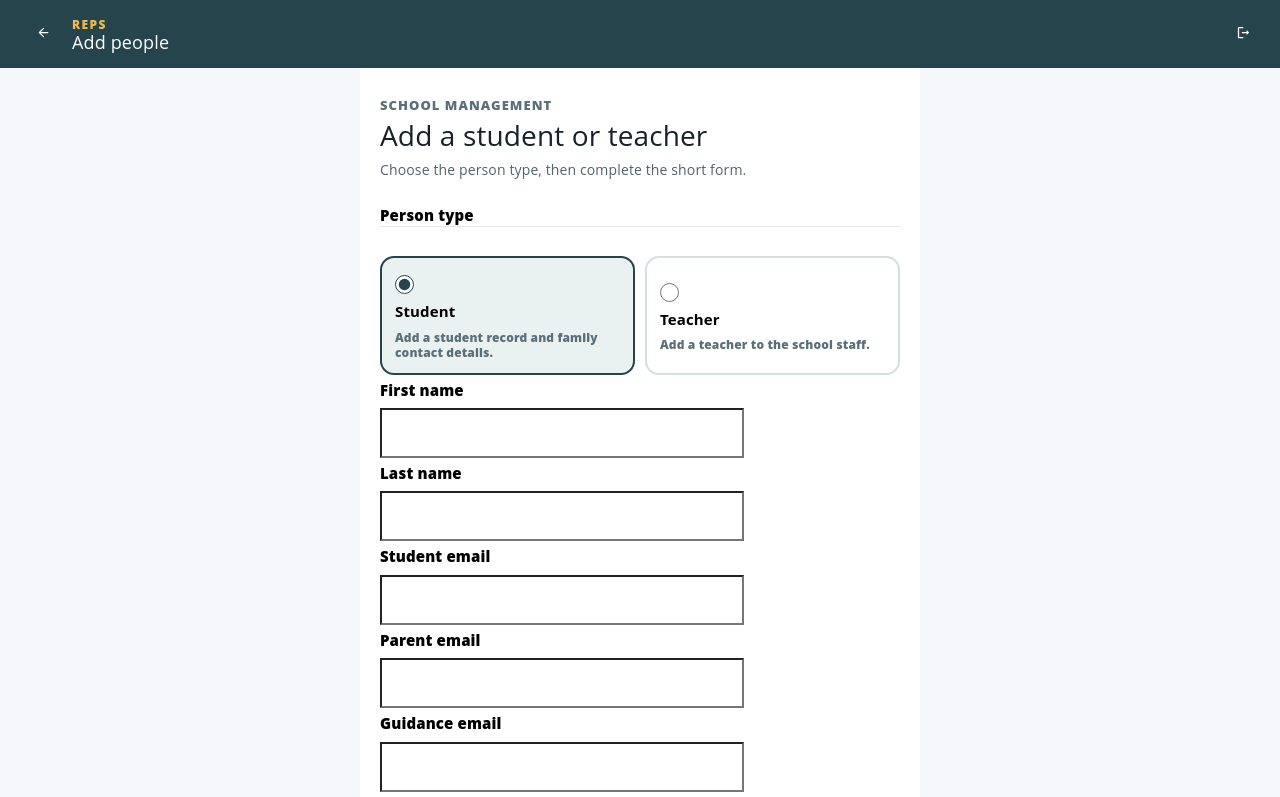
Test: mobile creation confirms employee body and explains access without sending invitation
Expected: the heading "Add a student or teacher" is shown, left=380, top=116, right=707, bottom=154
Click the radio button labelled "Teacher Add a teacher to the school staff." at (670, 292), box left=660, top=283, right=679, bottom=302
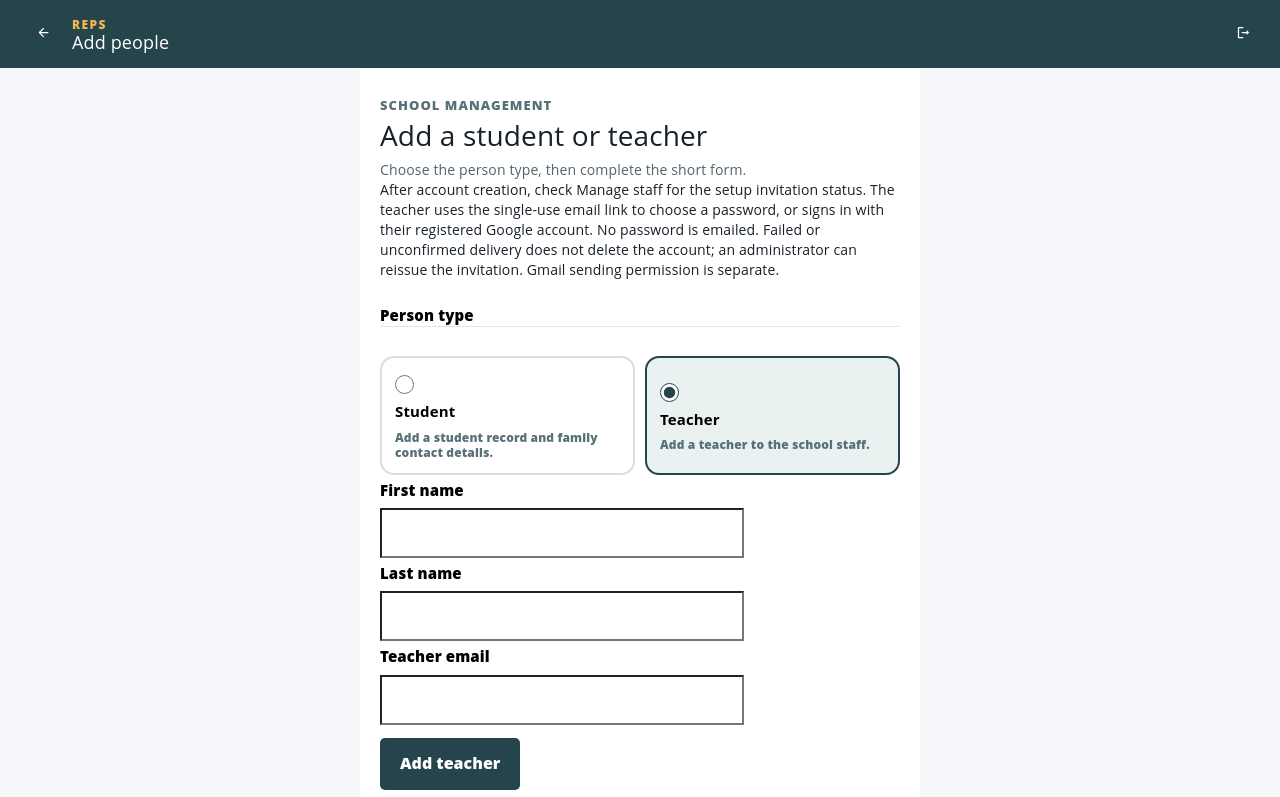
Type "Synthetic" into the field labelled "First name" at (562, 533), box left=380, top=508, right=744, bottom=558
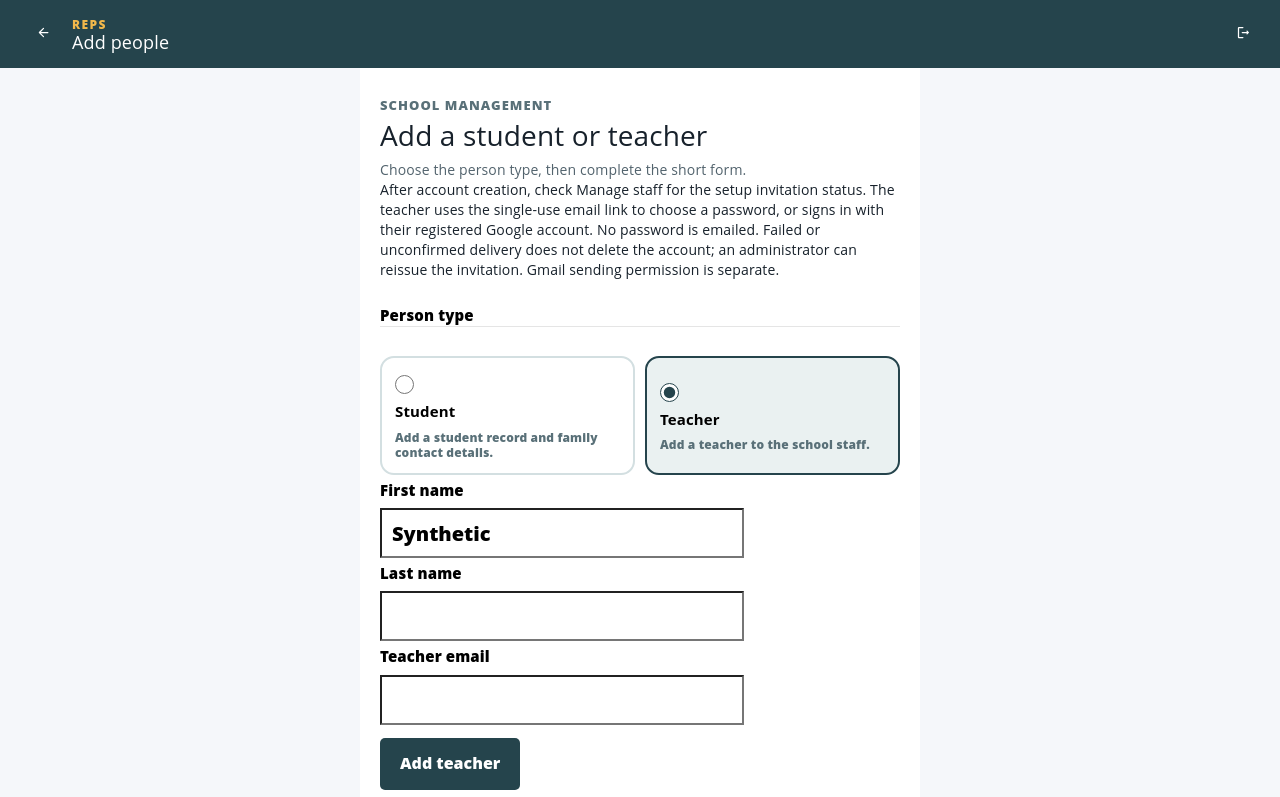
Type "Teacher" into the field labelled "Last name" at (562, 616), box left=380, top=591, right=744, bottom=641
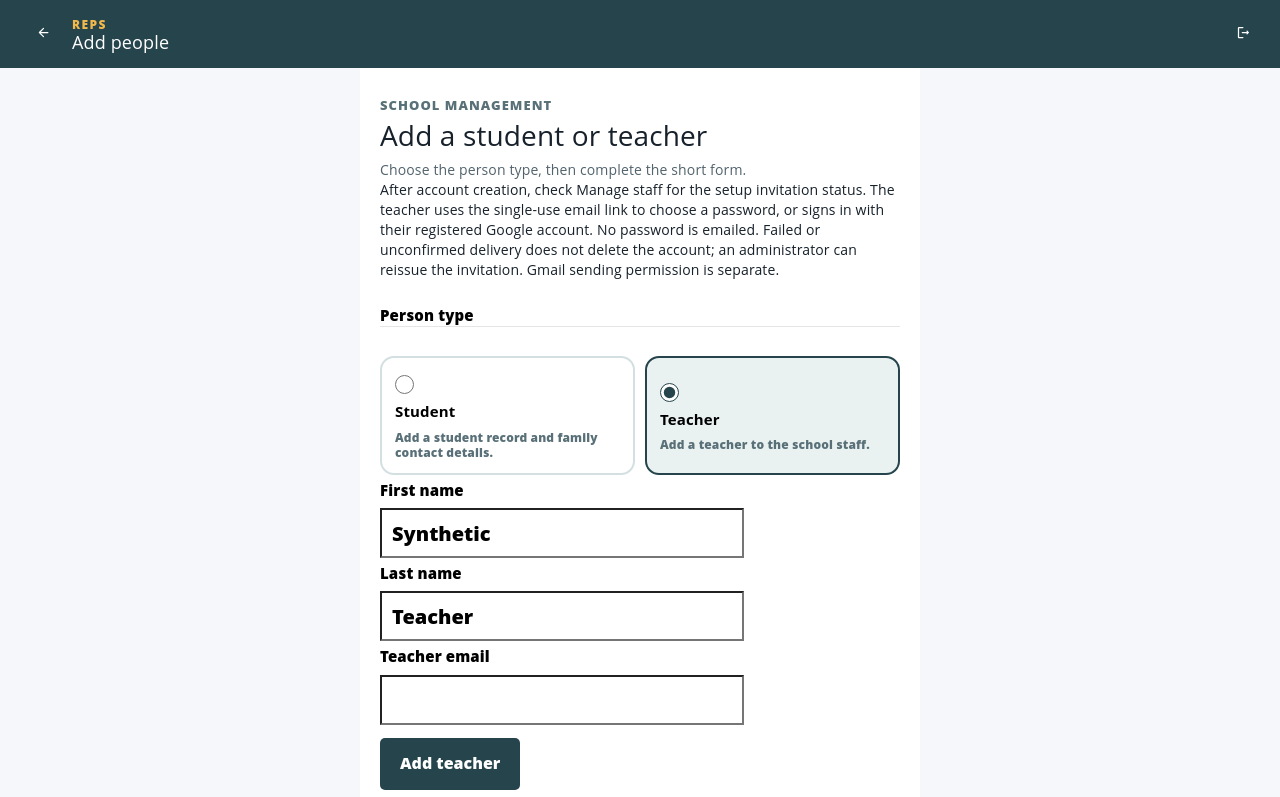
Type "teacher@school.test" into the field labelled "Teacher email" at (562, 700), box left=380, top=675, right=744, bottom=725
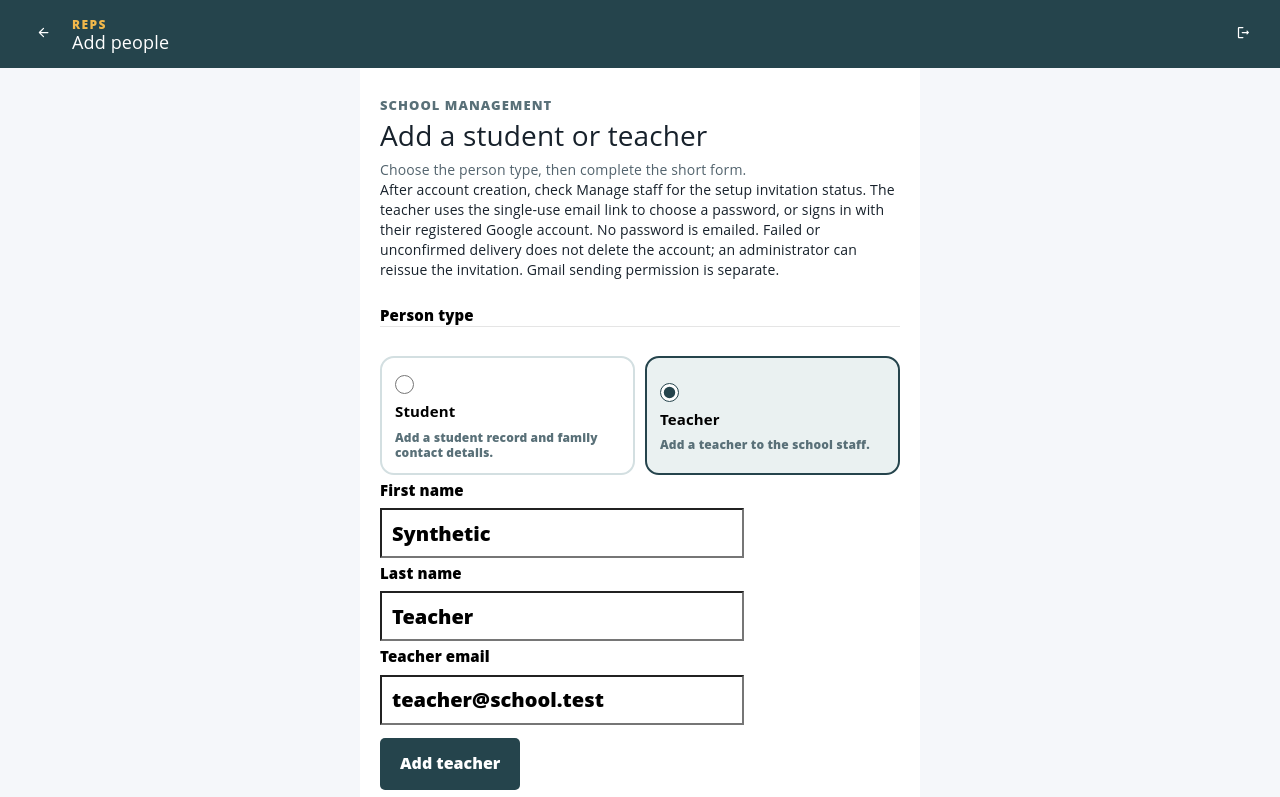
Click the button "Add teacher" at (450, 764), box left=380, top=738, right=520, bottom=790
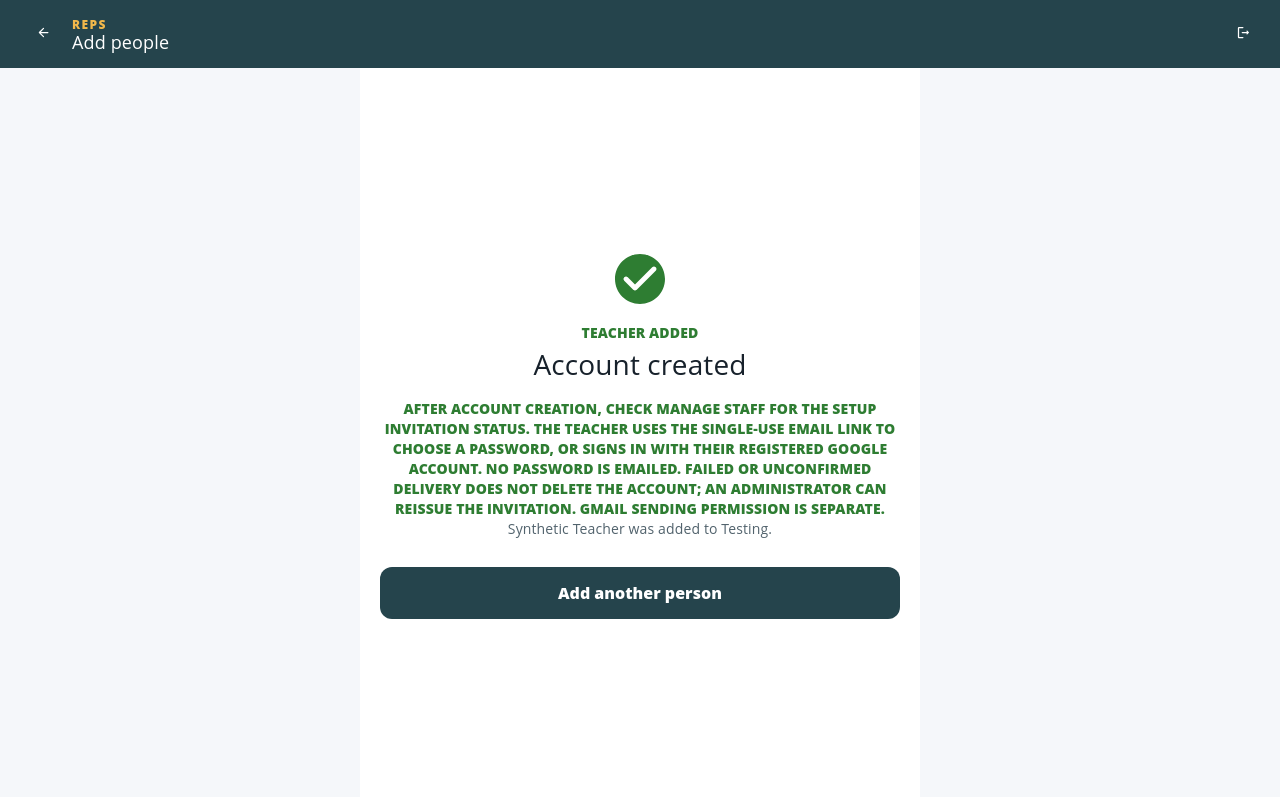
Result: the text "No password is emailed" is shown at left=385, top=399, right=895, bottom=518
Result: the text "Teacher added" is shown at left=582, top=323, right=698, bottom=342
